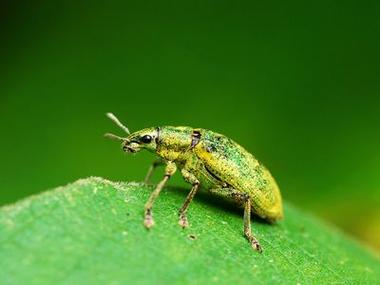Curculionidae: (102, 112, 284, 254)
